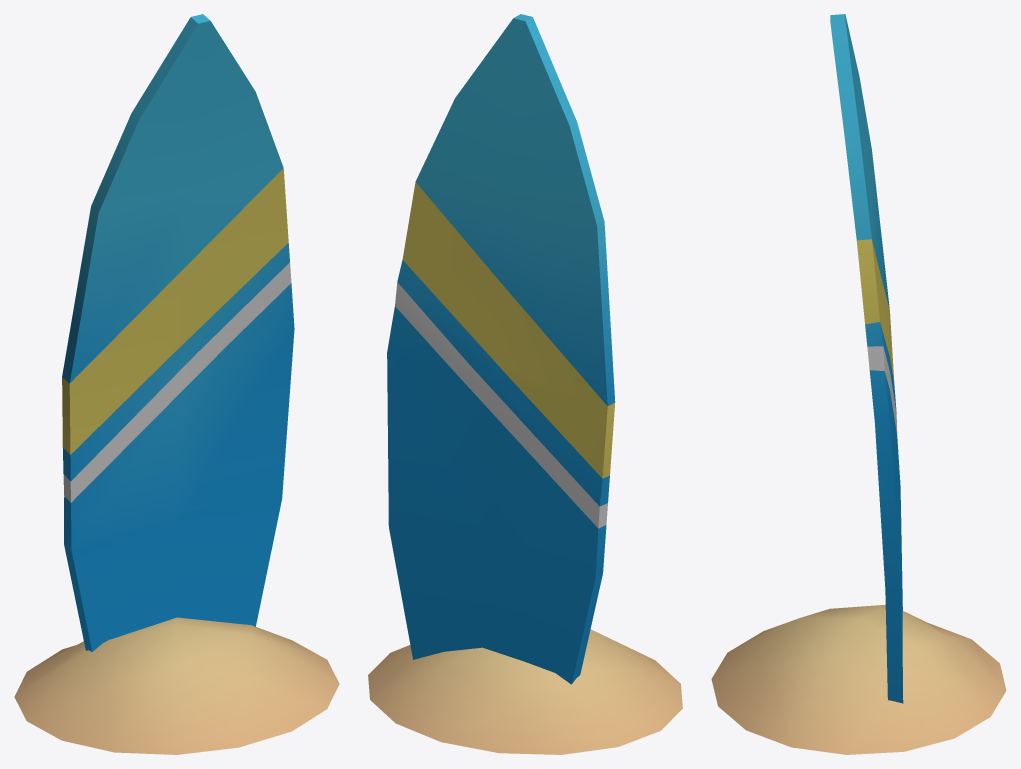
The model's file is Surfboard1.fbx.
The picture shows the model from 3 angles, left to right: view 1: azimuth 30°, elevation 25°; view 2: azimuth 150°, elevation 25°; view 3: azimuth 270°, elevation 25°; orthographic projection.
Parts seen in each view (by area): view 1: Plane.268; view 2: Plane.268; view 3: Plane.268.
Part boxes in pixels (<box>): Plane.268: <box>14,14,339,754</box>; Plane.268: <box>368,14,682,754</box>; Plane.268: <box>711,14,1006,754</box>.
Size of the model in its own units: 136 by 304 by 121.
